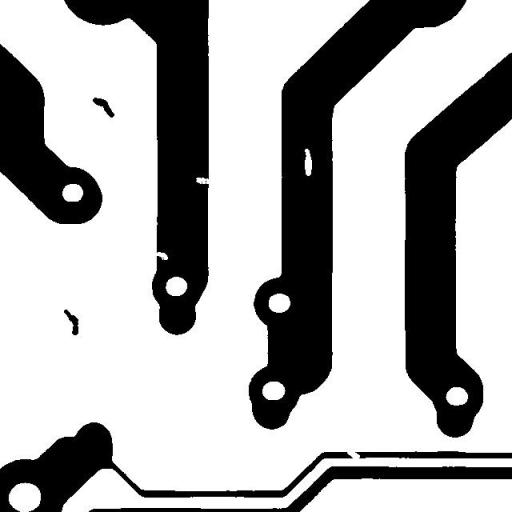copper: (84, 90, 122, 124), (56, 302, 86, 342)
mousebite: (146, 244, 175, 267), (188, 170, 219, 191)
open: (339, 442, 367, 466)
pin-hole: (297, 141, 319, 183)
